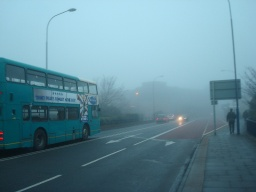bus: (1, 57, 105, 153)
